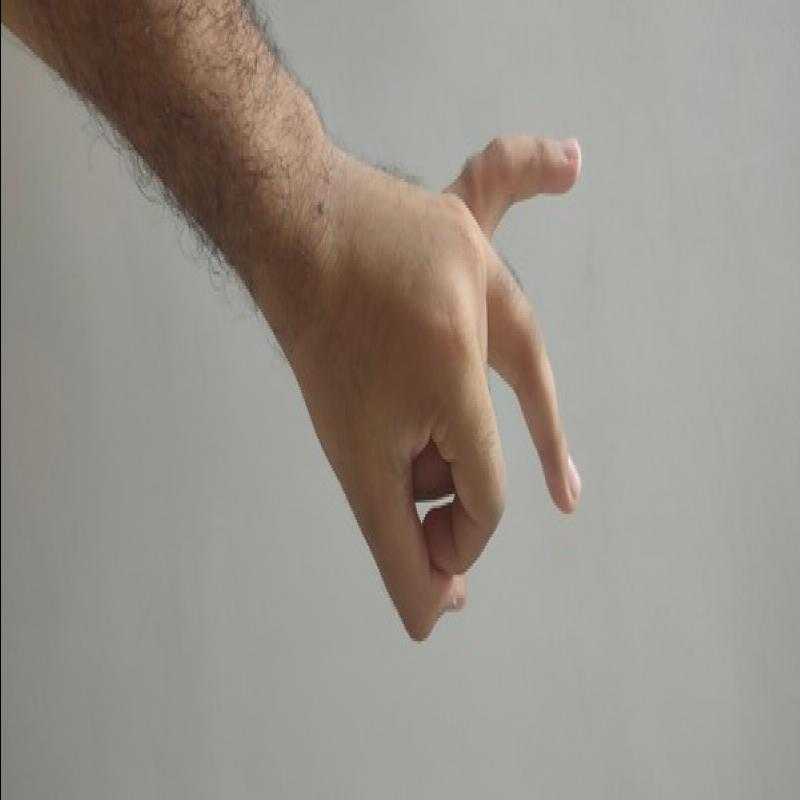Katakam: (316, 89, 706, 658)
